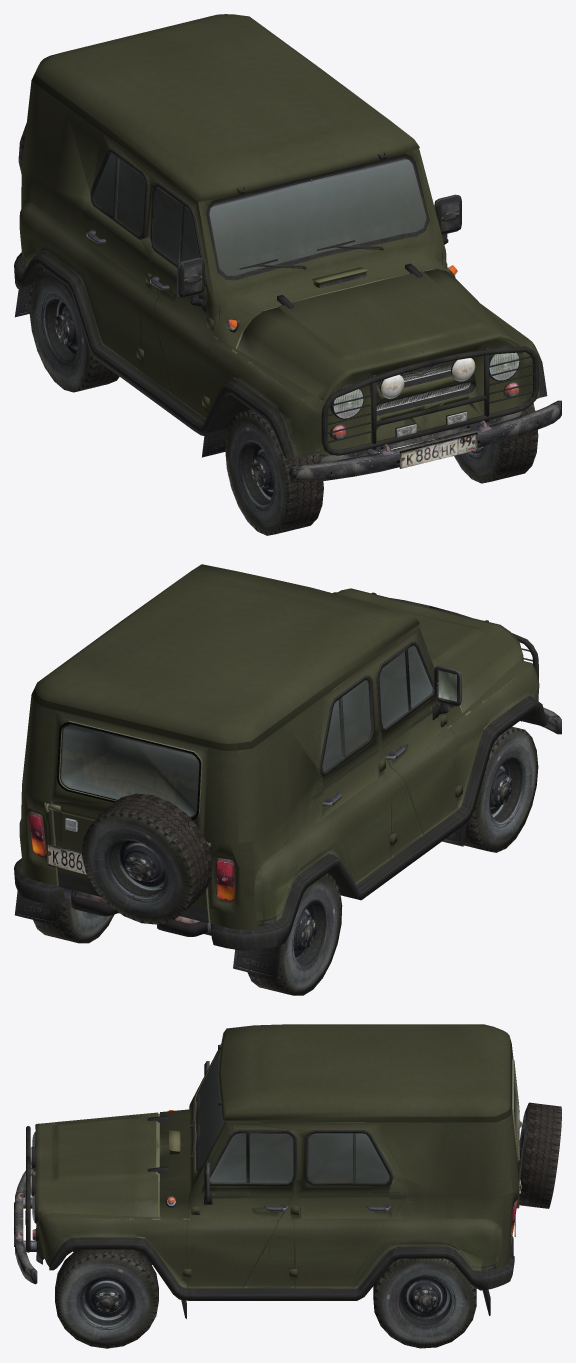
Rendered from jeep.obj.
The picture shows the model from 3 angles, top to bottom: view 1: azimuth 30°, elevation 25°; view 2: azimuth 150°, elevation 25°; view 3: azimuth 270°, elevation 25°; orthographic projection. The views are drawn at different scales.
Parts seen in each view (by area): view 1: x_Плоскость_Плоскость.001, j_Плоскость.009_Плоскость.008; view 2: x_Плоскость_Плоскость.001, h_Плоскость.008_Плоскость.002, d_Плоскость.003_Плоскость.005, r_Плоскость.004_Плоскость.006, j_Плоскость.009_Плоскость.008; view 3: x_Плоскость_Плоскость.001, h_Плоскость.008_Плоскость.002.
Part boxes in pixels (left/top/right/bottom): x_Плоскость_Плоскость.001: left=14, top=14, right=561, bottom=535; j_Плоскость.009_Плоскость.008: left=399, top=432, right=477, bottom=468; x_Плоскость_Плоскость.001: left=14, top=564, right=561, bottom=995; h_Плоскость.008_Плоскость.002: left=82, top=793, right=212, bottom=924; d_Плоскость.003_Плоскость.005: left=52, top=801, right=207, bottom=908; r_Плоскость.004_Плоскость.006: left=60, top=811, right=95, bottom=847; j_Плоскость.009_Плоскость.008: left=47, top=844, right=86, bottom=874; x_Плоскость_Плоскость.001: left=15, top=1024, right=521, bottom=1348; h_Плоскость.008_Плоскость.002: left=519, top=1102, right=561, bottom=1208.
Size of the model in its own units: 0.9826 by 0.9767 by 2.03.
1 material, 1 textured.
